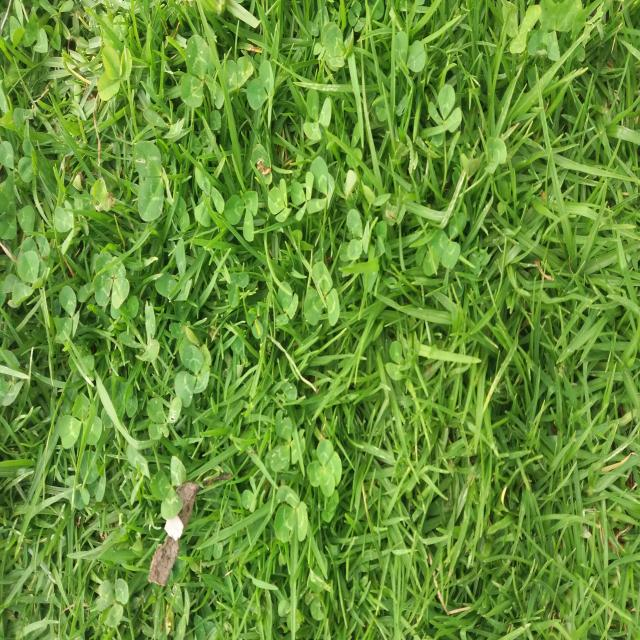Four Leaf Clover: (306, 439, 342, 497), (93, 251, 129, 309)
